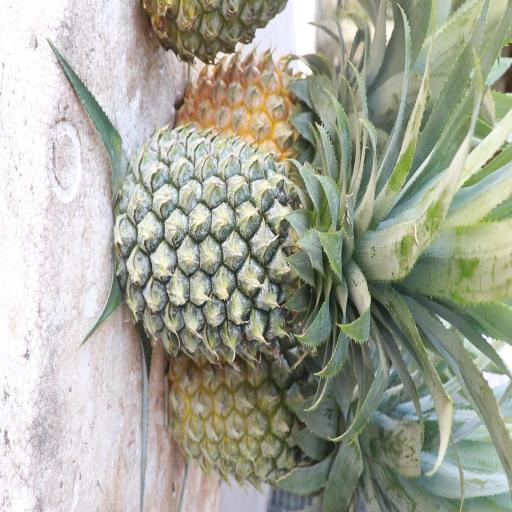------------------------------: (173, 340, 363, 480)
Pineapple - v8 v1: (185, 38, 354, 158)
